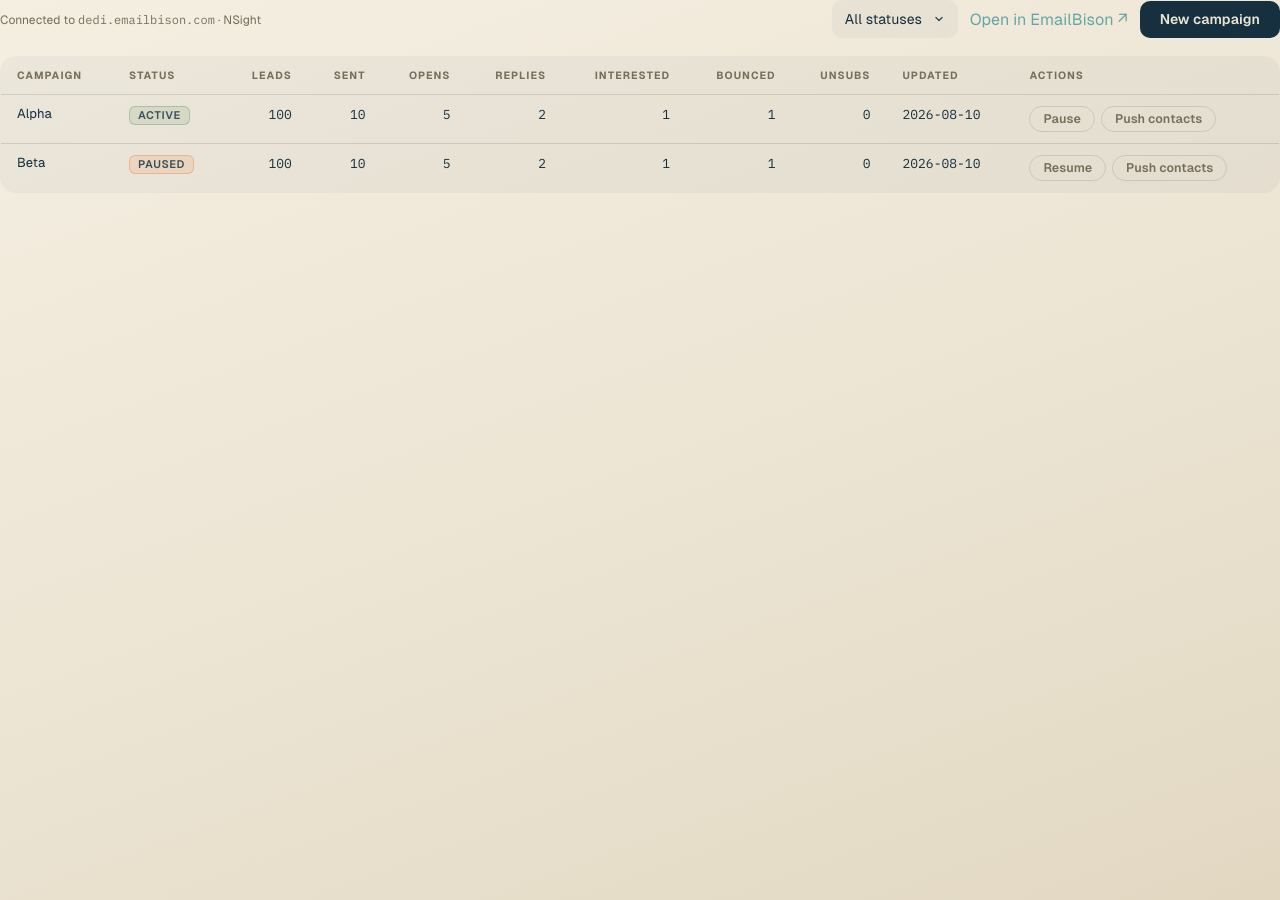
Test: EmailCenter dashboard › push failure keeps the dialog open with the upstream message
expect the text "Alpha" is shown: met, box left=1, top=94, right=113, bottom=144
Click the button "Push contacts" in the row of "Alpha" at (1159,119), box left=1101, top=106, right=1216, bottom=132
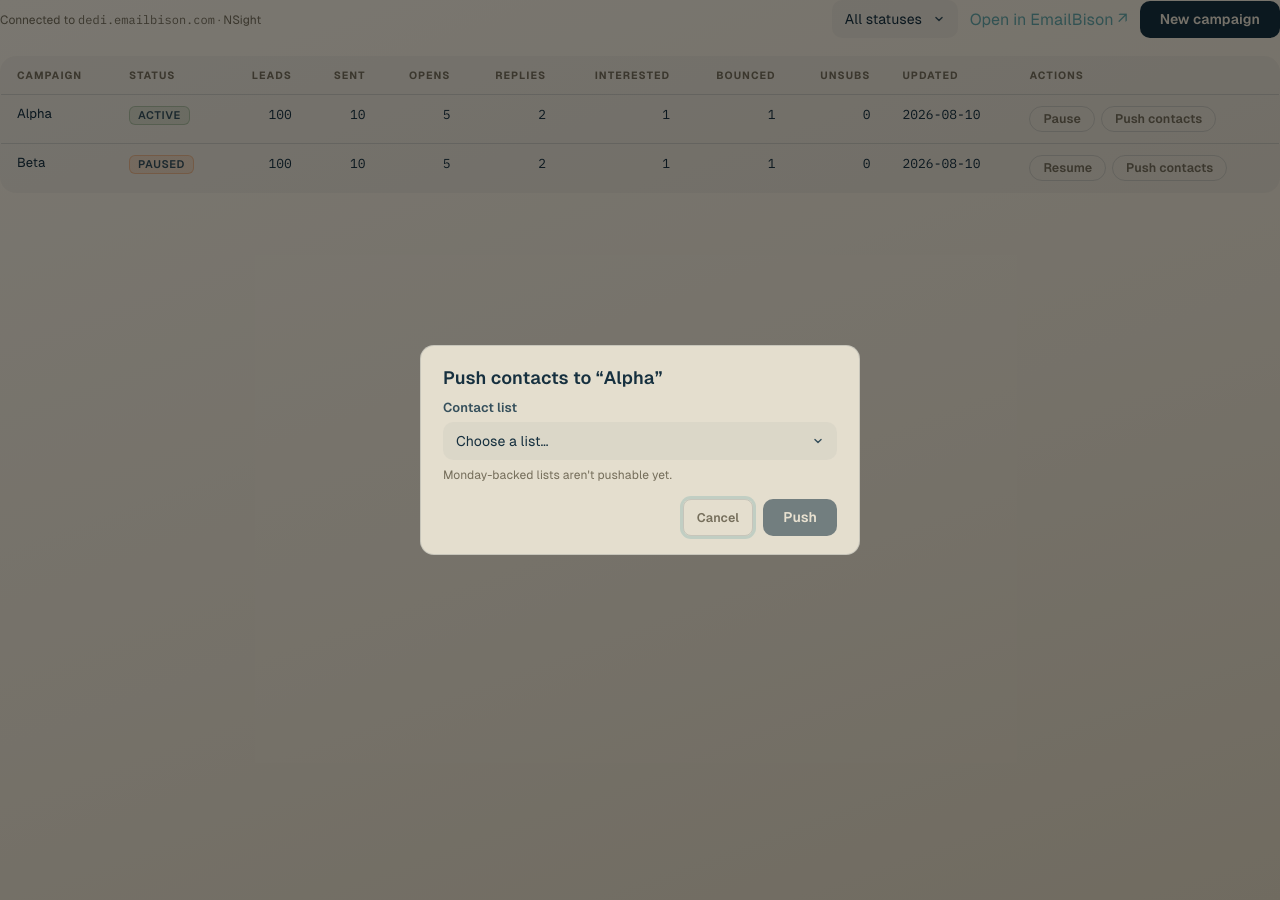
Select "August CSV — 42 contacts" in the dropdown labelled "Contact list" at (640,441), box left=443, top=422, right=837, bottom=460
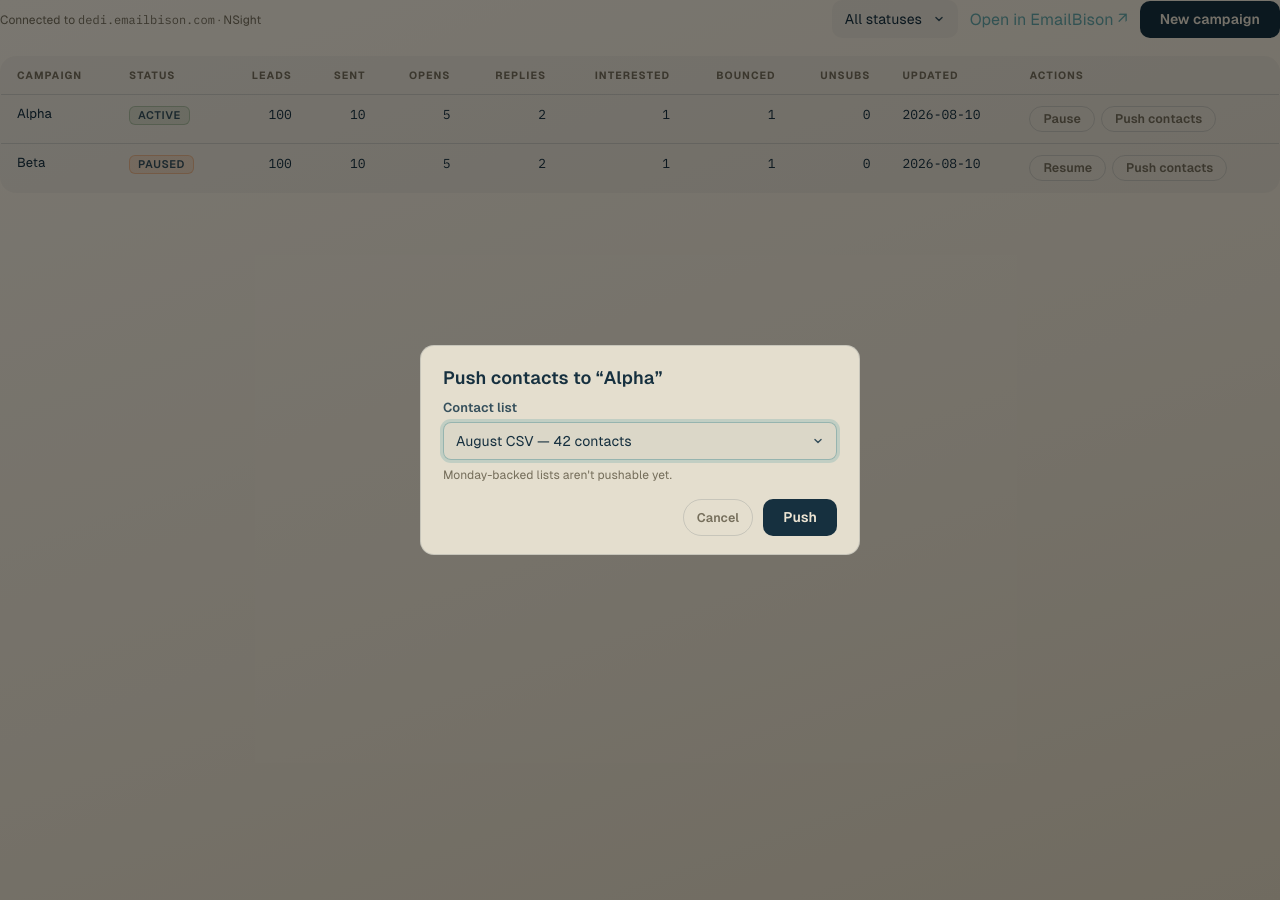
Click the button "Push" at (800,518), box left=763, top=499, right=837, bottom=536
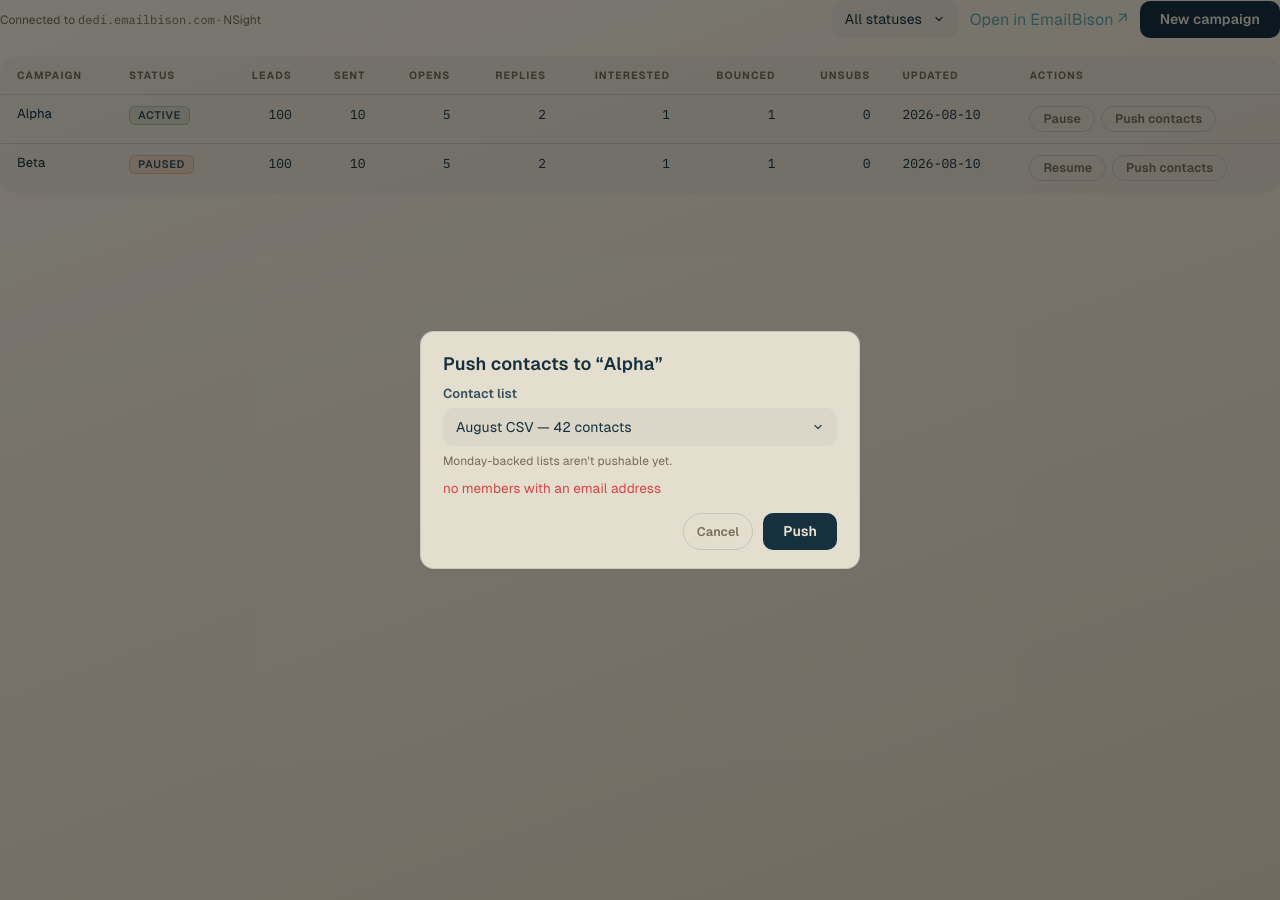
expect the dialog is shown: met, box left=420, top=331, right=860, bottom=569
expect the text "no members with an email address" is shown: met, box left=443, top=481, right=661, bottom=496
